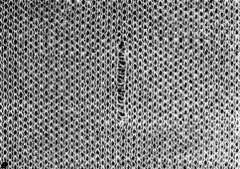Hole: (96, 28, 153, 128)
